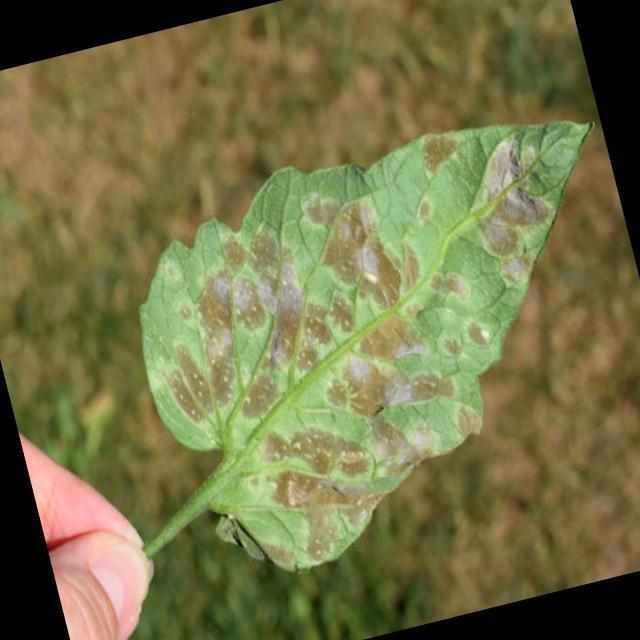Mosaic Virus: (105, 96, 640, 589)
